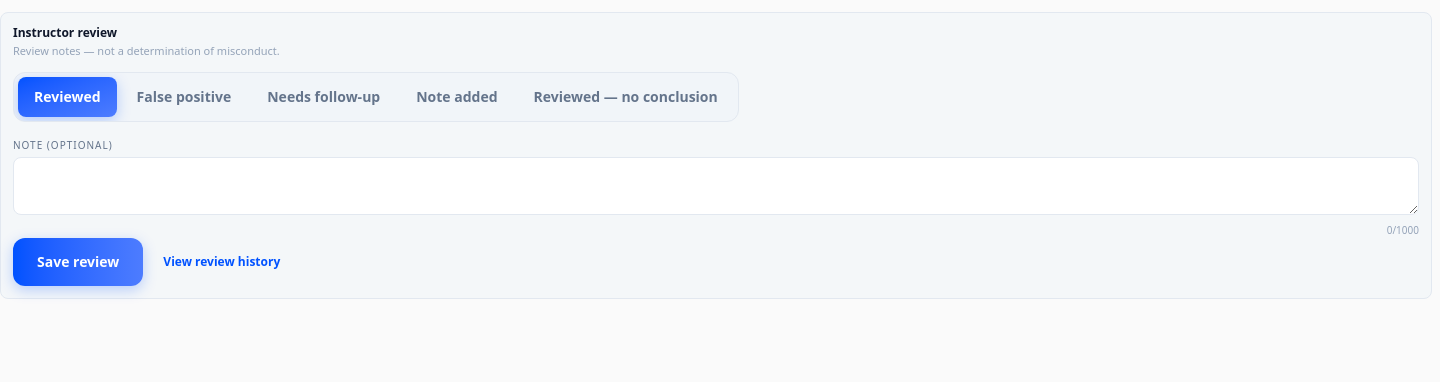
Scenario: AlertReviewForm history disclosure (§3.4) › fetches and renders history only when opened
Step 1. Click the button "View review history" → (222, 262), box [155,250,288,274]
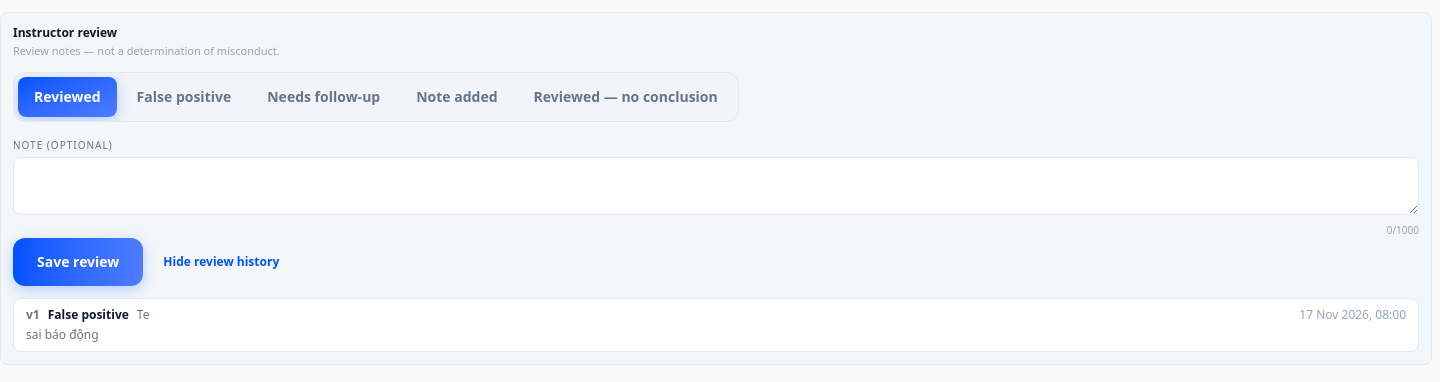
Check: the list with test id "alert-review-history" shows "v1", box [13,298,1419,352]
Check: the list with test id "alert-review-history" shows "False positive", box [48,306,129,322]
Check: the list with test id "alert-review-history" shows "sai báo động", box [26,326,99,342]
